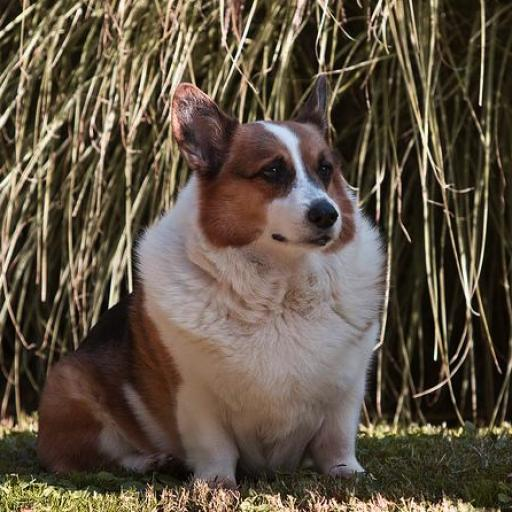dog_face: (166, 78, 346, 245)
